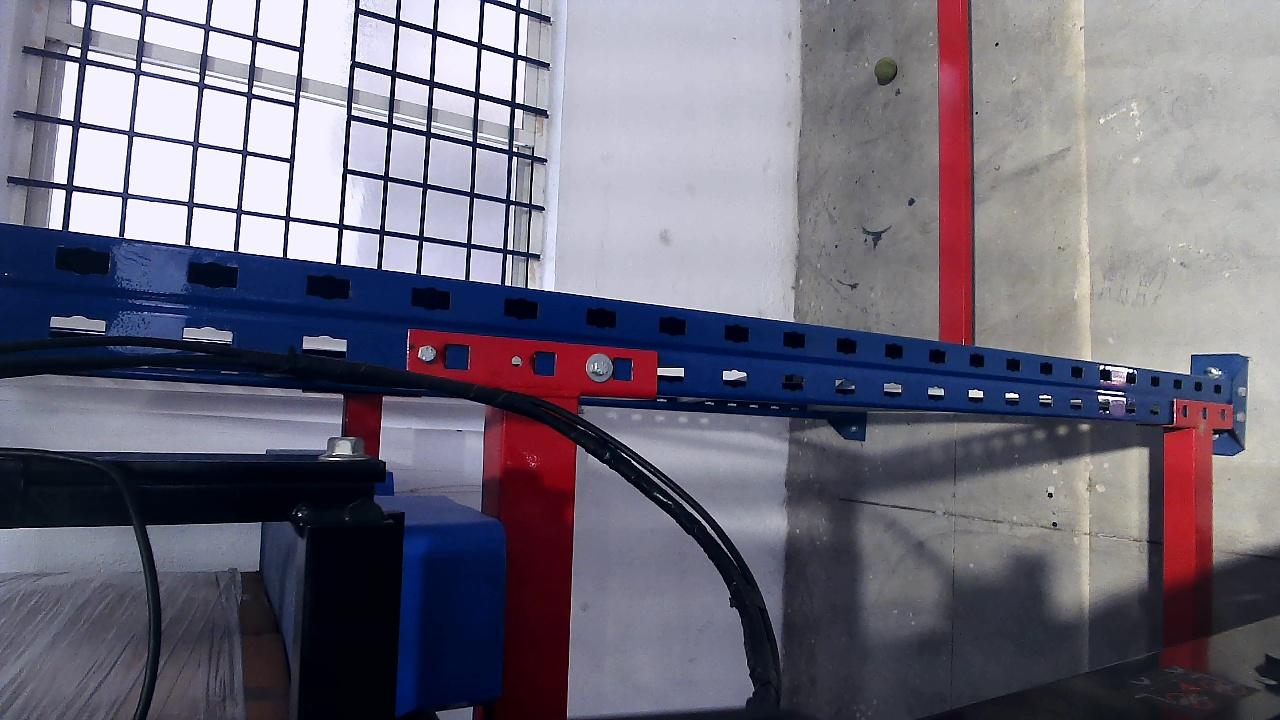h_rack: (496, 380, 579, 719), (1161, 431, 1214, 655)
